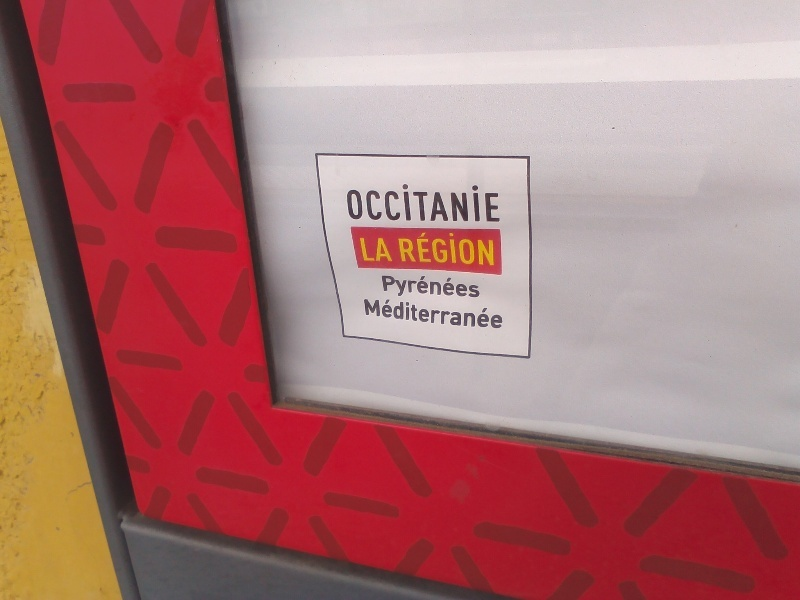text: (353, 181, 368, 227), (369, 181, 384, 227), (385, 181, 400, 227), (401, 181, 416, 227), (417, 181, 432, 227), (433, 181, 448, 227), (449, 181, 464, 227), (465, 181, 480, 227), (481, 181, 496, 227), (401, 232, 416, 267), (417, 232, 432, 267), (433, 232, 448, 267), (449, 232, 464, 267), (465, 232, 480, 267), (481, 232, 496, 267), (369, 297, 384, 332), (385, 297, 400, 332), (401, 297, 416, 332), (417, 297, 432, 332), (433, 297, 448, 332), (449, 297, 464, 332), (465, 297, 480, 332), (481, 297, 496, 332), (369, 235, 384, 263), (465, 274, 481, 300), (385, 274, 400, 300), (401, 274, 416, 300), (417, 274, 432, 300), (433, 274, 448, 300), (449, 274, 464, 300), (497, 297, 506, 332), (346, 181, 352, 227), (497, 181, 503, 227), (359, 235, 368, 263), (385, 235, 394, 263), (364, 297, 368, 332), (397, 232, 400, 267), (380, 274, 384, 300)
